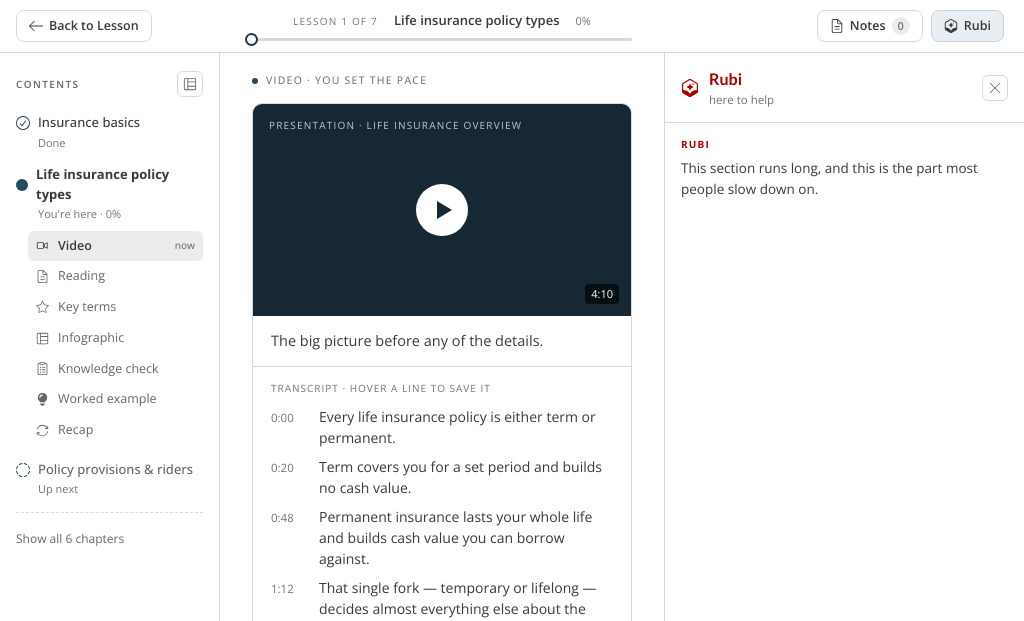
Scenario: the Knowledge check › …and says nothing when confidence and outcome agree
Click the button "Knowledge check" at (116, 369), box 28,354 -> 203,384
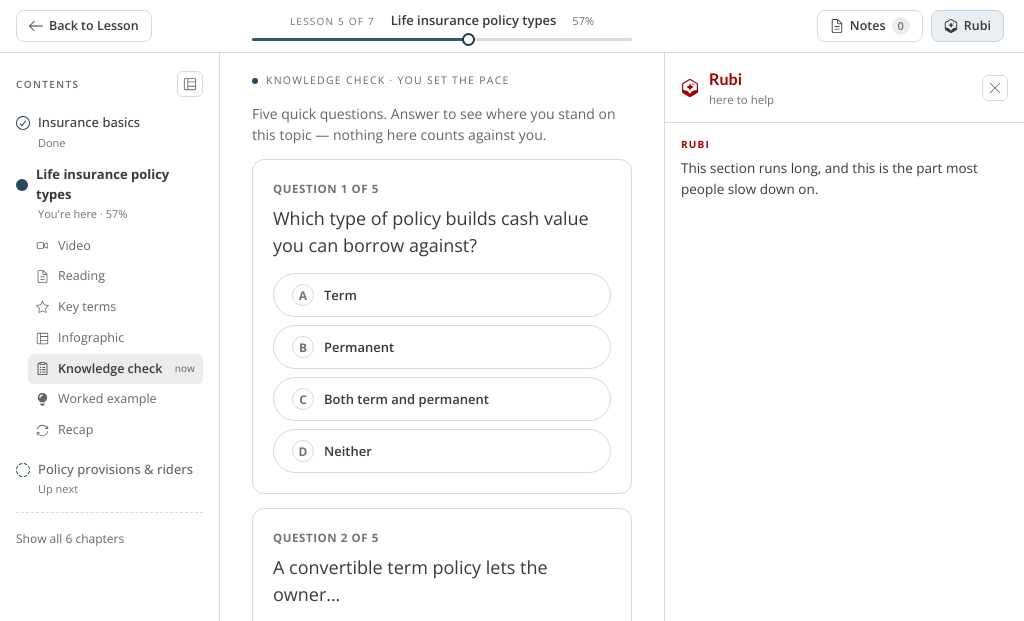
Click the button "B Permanent" at (359, 346), box 273,325 -> 611,369
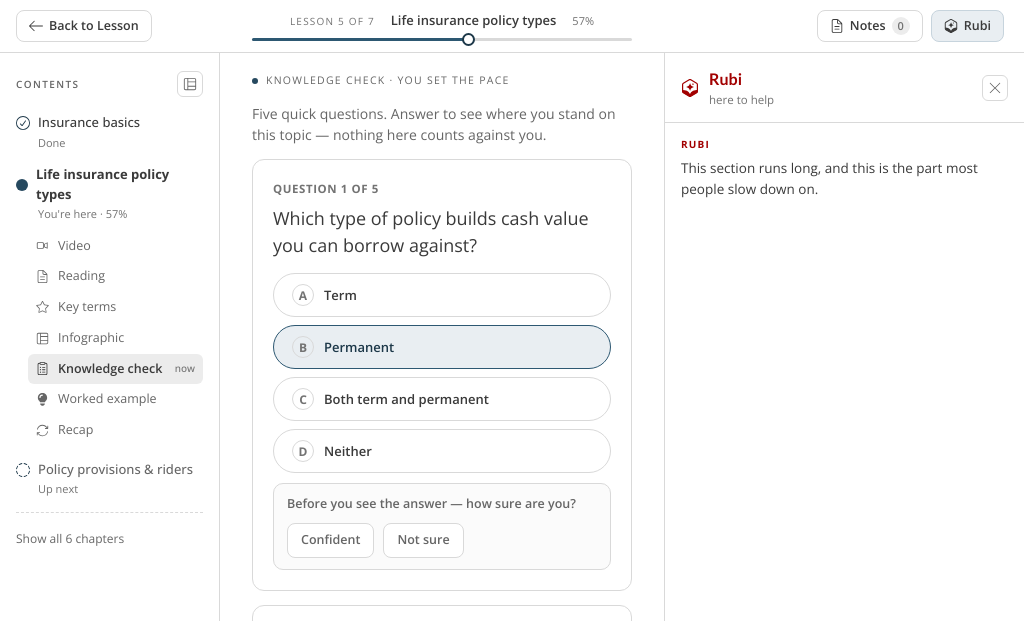
Click the button "Confident" at (331, 540), box 287,523 -> 374,558
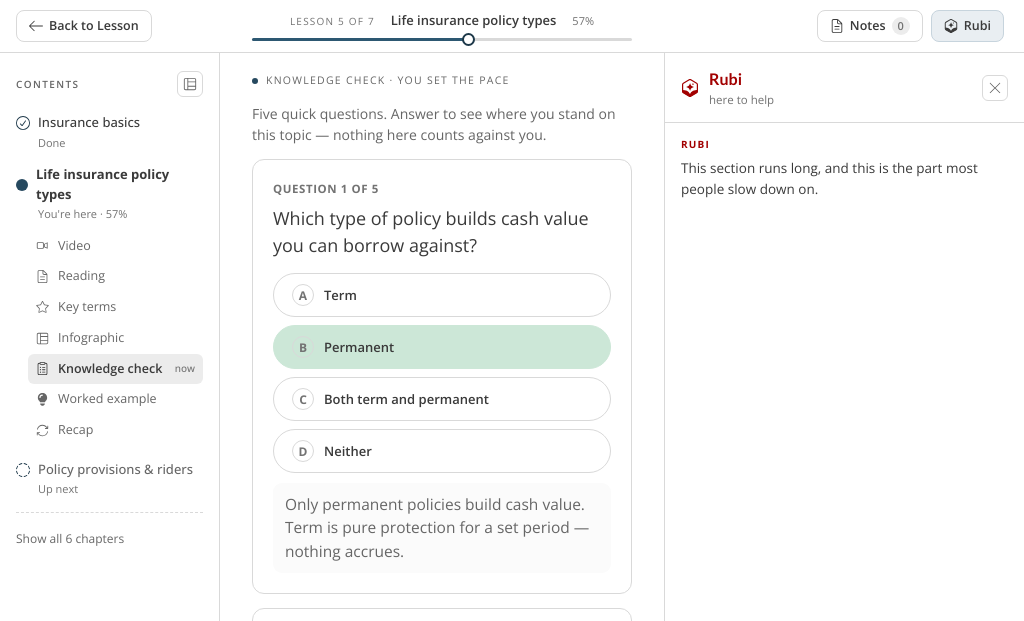
Expected: the text "Only permanent policies build cash value. Term is pure protection for a set period — nothing accrues." is shown, 285,493 -> 589,562
